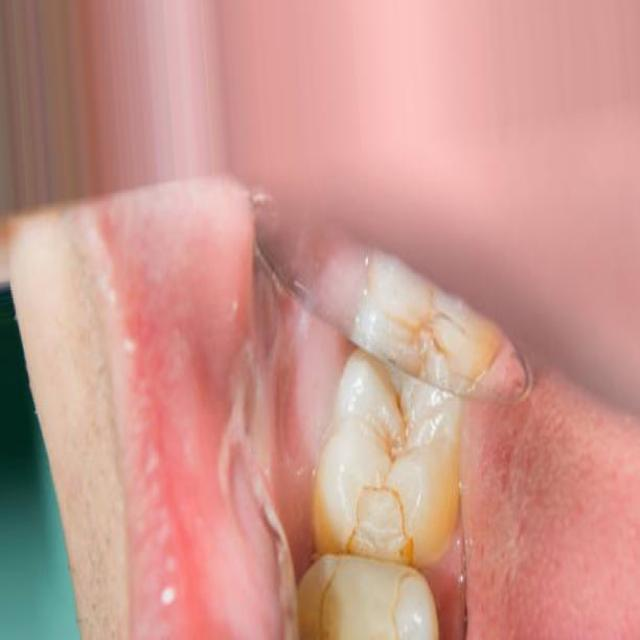caries: (297, 476, 427, 640)
